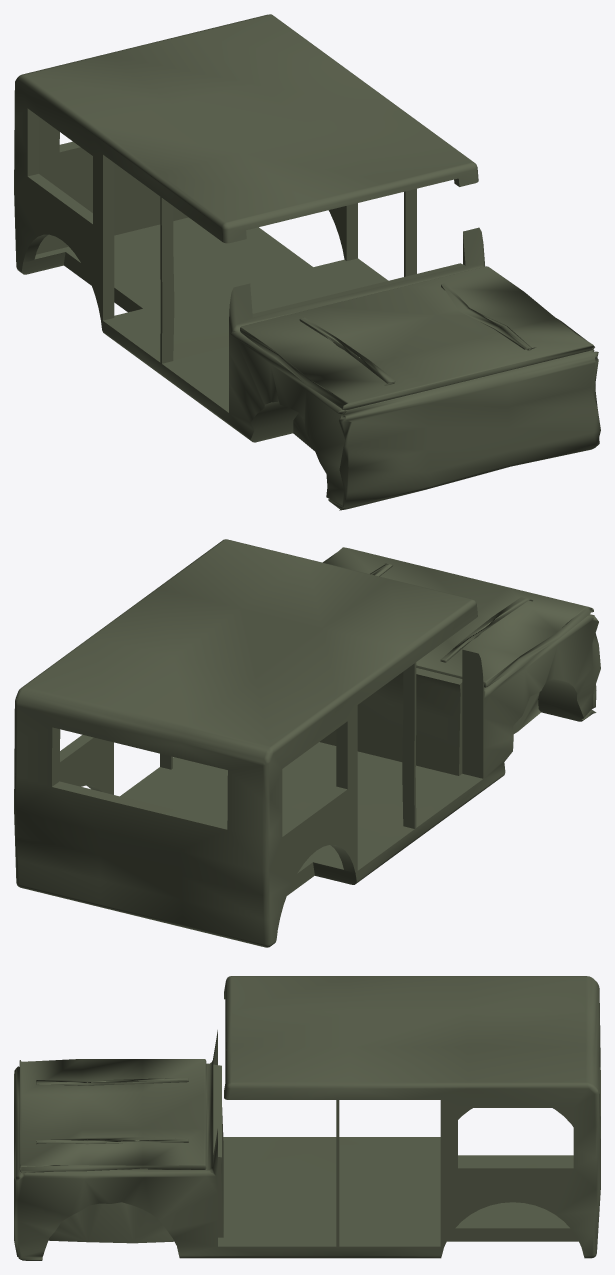
Rendered from Car_Damage_Damaged.fbx.
The picture shows the model from 3 angles, top to bottom: view 1: azimuth 30°, elevation 25°; view 2: azimuth 150°, elevation 25°; view 3: azimuth 270°, elevation 25°; orthographic projection. The views are drawn at different scales.
Visible parts, largest first — view 1: SM_Jeep_Body.001, SM_Jeep_Hood.001; view 2: SM_Jeep_Body.001, SM_Jeep_Hood.001; view 3: SM_Jeep_Body.001, SM_Jeep_Hood.001.
Part boxes in pixels (<box>): SM_Jeep_Body.001: <box>14,14,600,510</box>; SM_Jeep_Hood.001: <box>240,266,594,410</box>; SM_Jeep_Body.001: <box>14,539,600,947</box>; SM_Jeep_Hood.001: <box>322,547,593,687</box>; SM_Jeep_Body.001: <box>14,976,600,1260</box>; SM_Jeep_Hood.001: <box>19,1059,206,1172</box>.
Bounding box in the file's own units: 1.85 × 1.35 × 4.06.
